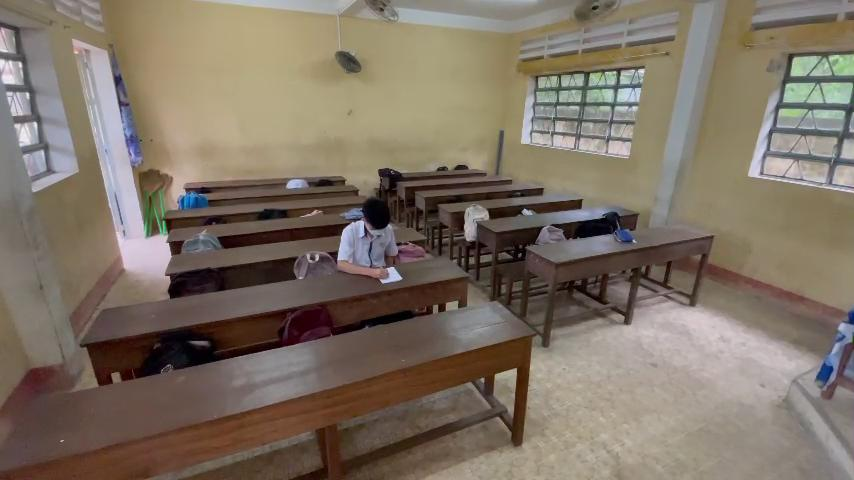Hand Under Table: (383, 225, 397, 269)
